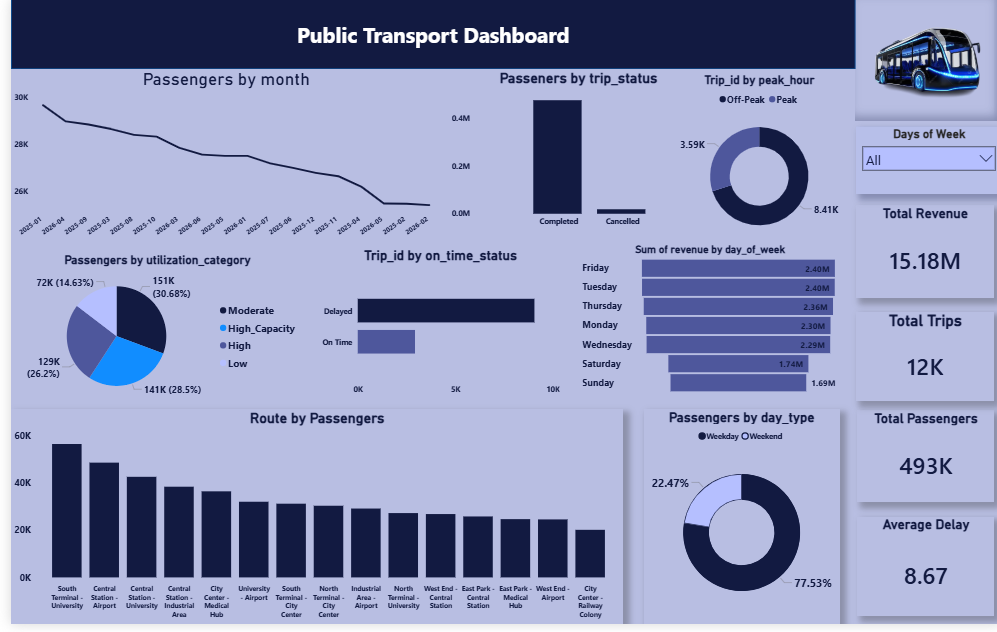

What the dashboard file says about the page in this screenshot:
{"tool":"powerbi","page":{"name":"Page 1","canvas":[1586,1000],"ordinal":0},"visuals":[{"type":"shape","box":[0,0,1351,112.2],"z":0},{"type":"slicer","title":"Days of Week","fields":{"Values":["public_transport transport_table.day_of_week"]},"box":[1351,204.1,234.7,108.2],"z":1000},{"type":"cardVisual","title":"Total Revenue","fields":{"Data":["public_transport transport_table.Measure"]},"box":[1351,330.6,222.4,149],"z":2000},{"type":"clusteredColumnChart","title":"Route by Passengers","fields":{"Y":["Sum(public_transport transport_table.passengers)"],"Category":["public_transport transport_table.route_name"]},"box":[0,656.4,980,343.6],"z":3000},{"type":"donutChart","title":"Passengers by day_type","fields":{"Category":["public_transport transport_table.day_type"],"Y":["Sum(public_transport transport_table.passengers)"]},"box":[1012.7,656.4,314.5,343.6],"z":4000},{"type":"cardVisual","title":"Total Trips","fields":{"Data":["public_transport transport_table.Total Trips"]},"box":[1351,500,222.4,142.9],"z":5000},{"type":"cardVisual","title":"Total Passengers","fields":{"Data":["public_transport transport_table.Total Passengers"]},"box":[1353.1,657.1,220.4,146.9],"z":6000},{"type":"cardVisual","title":"Average Delay","fields":{"Data":["public_transport transport_table.Av delay"]},"box":[1353.1,828.6,220.4,159.2],"z":7000},{"type":"lineChart","title":"Passengers by month","fields":{"Category":["public_transport transport_table.month"],"Y":["Sum(public_transport transport_table.passengers)"]},"box":[0,112.7,689.1,276.4],"z":8000},{"type":"columnChart","title":"Passeners by trip_status","fields":{"Category":["public_transport transport_table.trip_status"],"Y":["Sum(public_transport transport_table.passengers)"]},"box":[700,112.7,416.4,261.8],"z":9000},{"type":"pieChart","title":"Passengers by utilization_category","fields":{"Category":["public_transport transport_table.utilization_category"],"Y":["Sum(public_transport transport_table.passengers)"]},"box":[0,405.5,469.1,245.5],"z":10000},{"type":"clusteredBarChart","title":"Trip_id by on_time_status","fields":{"Category":["public_transport transport_table.on_time_status"],"Y":["CountNonNull(public_transport transport_table.trip_id)"]},"box":[492.7,398.2,390.9,245.5],"z":11000},{"type":"donutChart","title":"Trip_id by peak_hour","fields":{"Category":["public_transport transport_table.peak_hour"],"Y":["CountNonNull(public_transport transport_table.trip_id)"]},"box":[1041.8,118.2,310.9,278.2],"z":12000},{"type":"funnel","fields":{"Category":["public_transport transport_table.day_of_week"],"Y":["Sum(public_transport transport_table.revenue)"]},"box":[909.1,389.1,418.2,246],"z":13000},{"type":"image","box":[1350.9,0,234.5,195],"z":14000}]}

Visuals, with their boxes in screenshot pixels (x1, y1, x2, y2), scaled from the page's 1586x1000 canvas onto the 997x632 screenshot:
shape: {"left": 0, "top": 0, "right": 849, "bottom": 71}
"Days of Week" slicer: {"left": 849, "top": 129, "right": 996, "bottom": 197}
"Total Revenue" cardVisual: {"left": 849, "top": 209, "right": 989, "bottom": 303}
"Route by Passengers" clusteredColumnChart: {"left": 0, "top": 415, "right": 616, "bottom": 631}
"Passengers by day_type" donutChart: {"left": 637, "top": 415, "right": 834, "bottom": 631}
"Total Trips" cardVisual: {"left": 849, "top": 316, "right": 989, "bottom": 406}
"Total Passengers" cardVisual: {"left": 851, "top": 415, "right": 989, "bottom": 508}
"Average Delay" cardVisual: {"left": 851, "top": 524, "right": 989, "bottom": 624}
"Passengers by month" lineChart: {"left": 0, "top": 71, "right": 433, "bottom": 246}
"Passeners by trip_status" columnChart: {"left": 440, "top": 71, "right": 702, "bottom": 237}
"Passengers by utilization_category" pieChart: {"left": 0, "top": 256, "right": 295, "bottom": 411}
"Trip_id by on_time_status" clusteredBarChart: {"left": 310, "top": 252, "right": 555, "bottom": 407}
"Trip_id by peak_hour" donutChart: {"left": 655, "top": 75, "right": 850, "bottom": 251}
funnel - public_transport transport_table.day_of_week x Sum(public_transport transport_table.revenue): {"left": 571, "top": 246, "right": 834, "bottom": 401}
image: {"left": 849, "top": 0, "right": 996, "bottom": 123}
